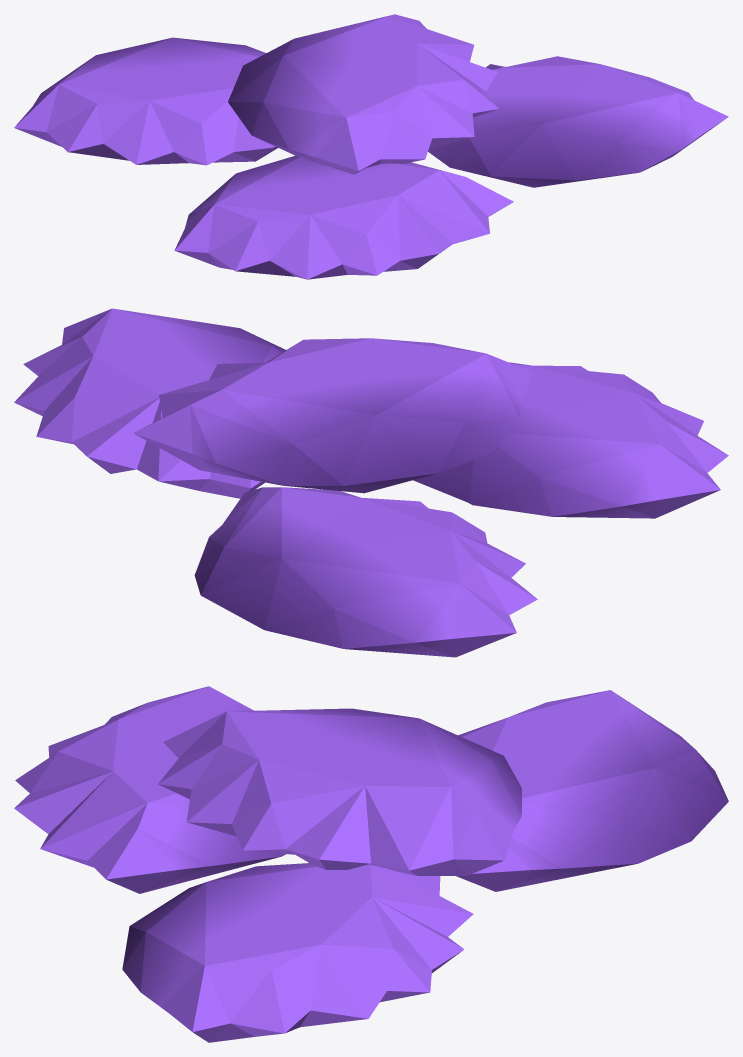
File: SM_Shell_8.fbx
The picture shows the model from 3 angles, top to bottom: view 1: azimuth 30°, elevation 25°; view 2: azimuth 150°, elevation 25°; view 3: azimuth 270°, elevation 25°; orthographic projection. The views are drawn at different scales.
Visible parts, largest first — view 1: Shell_8; view 2: Shell_8; view 3: Shell_8.
Part boxes in pixels (bbox=[...]): Shell_8: bbox=[14, 14, 728, 279]; Shell_8: bbox=[14, 308, 728, 657]; Shell_8: bbox=[14, 686, 728, 1042].
Size of the model in its own units: 60.68 by 12.22 by 54.76.
